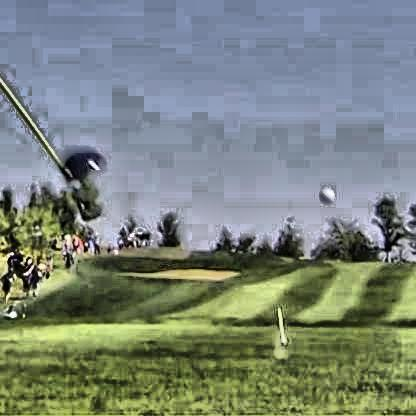golfball: (315, 183, 333, 203)
